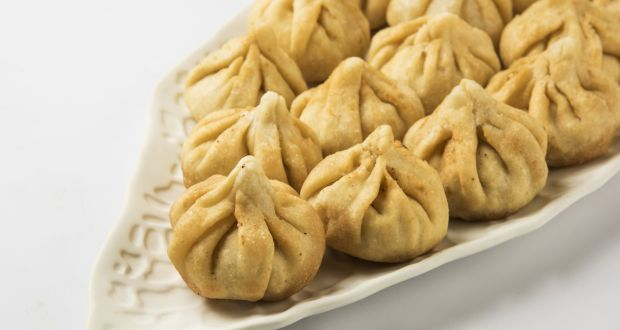modak: (186, 167, 341, 308), (412, 86, 558, 209), (312, 133, 446, 256), (168, 98, 330, 185), (510, 32, 620, 160), (302, 67, 441, 152), (370, 21, 504, 109), (194, 28, 306, 125)
